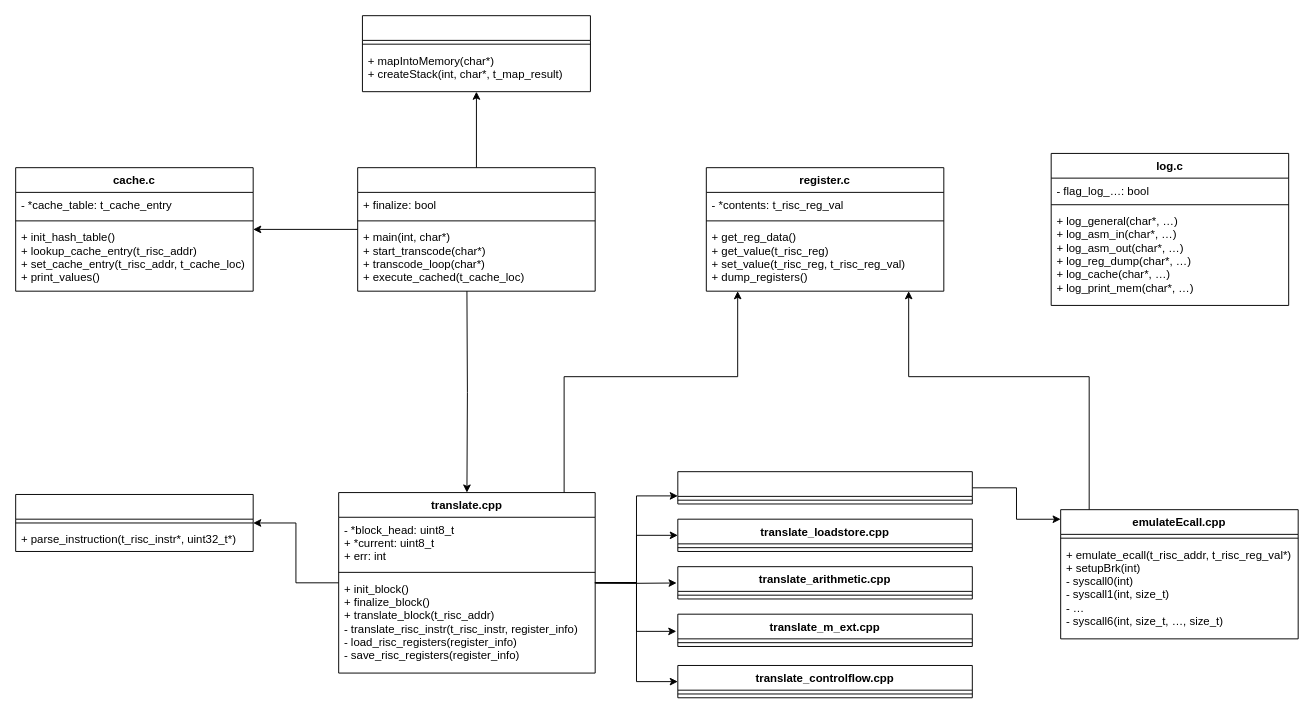
The diagram is 1314 pixels wide and 713 high, and some of its shapes have lost their labels. Here are the shapes that lost their labels. From the top down, the box of each, then its label:
(361, 15, 590, 92): loadElf.c
(357, 167, 595, 291): main.c
(677, 471, 972, 504): translate_other.cpp
(15, 494, 253, 551): parser.c
